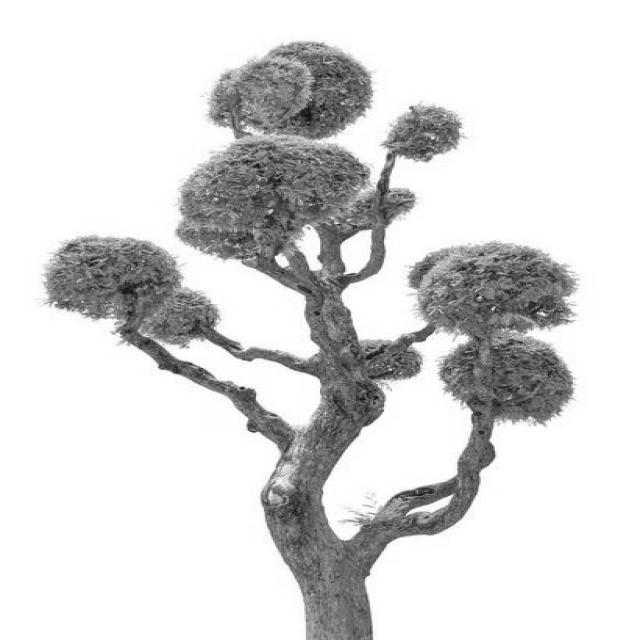Tree: (44, 41, 578, 640)
